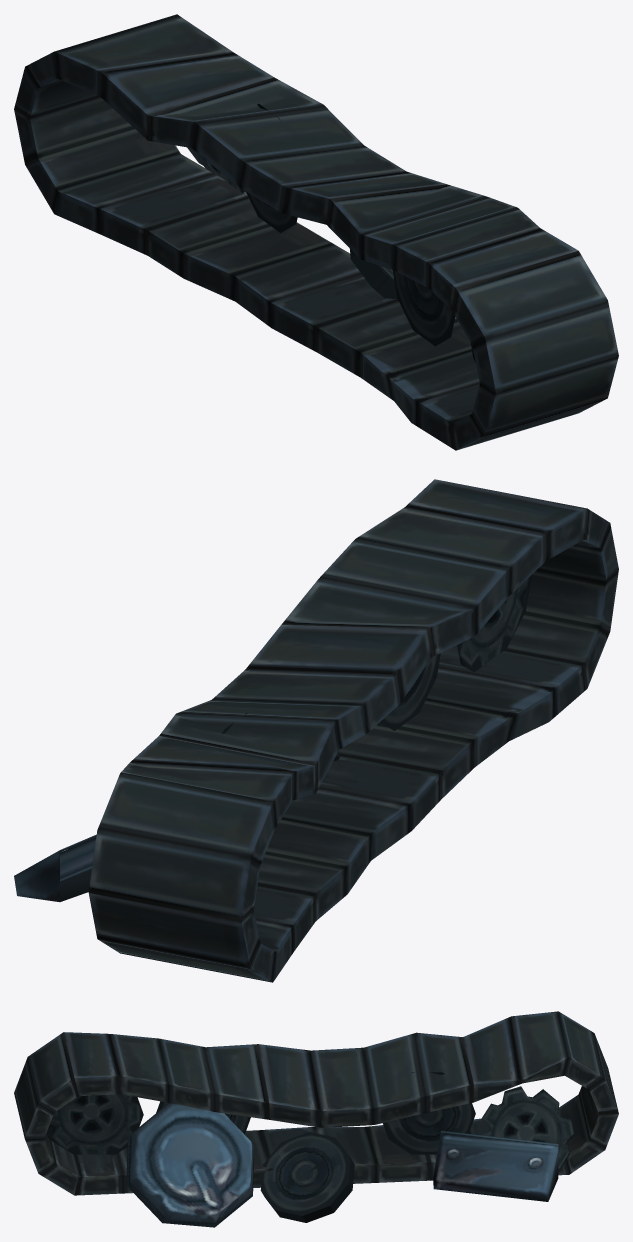
The model's file is T_tank_break_05.fbx.
3 views of the same model, one above another, from view 1: azimuth 30°, elevation 25°; view 2: azimuth 150°, elevation 25°; view 3: azimuth 270°, elevation 25° (orthographic). The views are drawn at different scales.
Parts seen in each view (by area): view 1: T_tank_break_05; view 2: T_tank_break_05; view 3: T_tank_break_05.
Part boxes in pixels (x1,y1,x2,y2): T_tank_break_05: (14, 14, 618, 450); T_tank_break_05: (14, 479, 618, 982); T_tank_break_05: (14, 1011, 618, 1227).
Bounding box in the file's own units: 168 × 108 × 443.
Materials: 1 (1 with a texture image).
